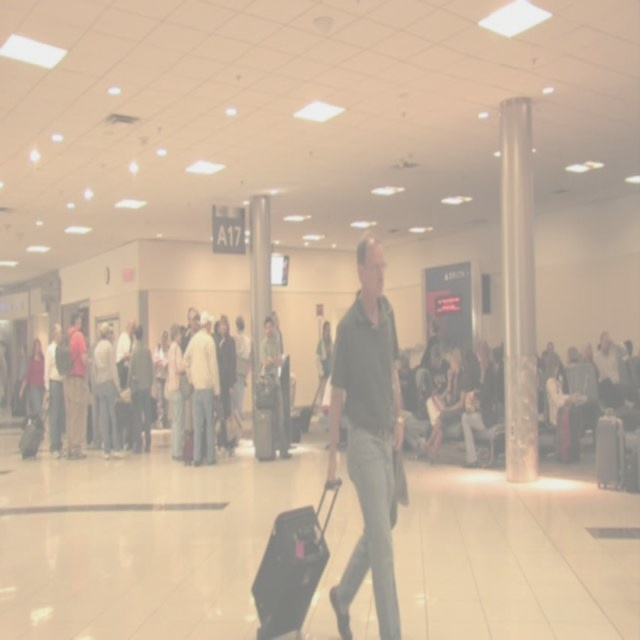pessoa: (324, 228, 420, 639), (396, 336, 506, 414), (420, 344, 472, 468), (182, 308, 221, 467), (362, 381, 430, 459), (459, 338, 499, 470), (54, 309, 88, 462), (92, 318, 124, 462), (258, 314, 288, 460), (459, 344, 498, 454), (124, 322, 154, 454), (592, 329, 640, 411), (42, 321, 70, 458), (167, 319, 192, 462), (229, 313, 253, 448), (215, 313, 238, 452), (166, 322, 187, 454), (318, 358, 348, 450), (86, 321, 107, 452), (544, 352, 578, 428), (535, 337, 595, 379), (76, 333, 95, 447), (19, 338, 46, 418), (620, 336, 640, 436), (314, 320, 335, 410), (152, 328, 170, 432), (114, 314, 138, 390), (398, 352, 419, 414), (420, 316, 442, 374), (428, 343, 450, 401), (12, 343, 28, 416), (182, 308, 202, 359), (594, 338, 621, 366), (180, 306, 194, 358), (270, 310, 284, 354), (209, 312, 221, 348), (154, 394, 164, 432), (108, 322, 116, 344)
